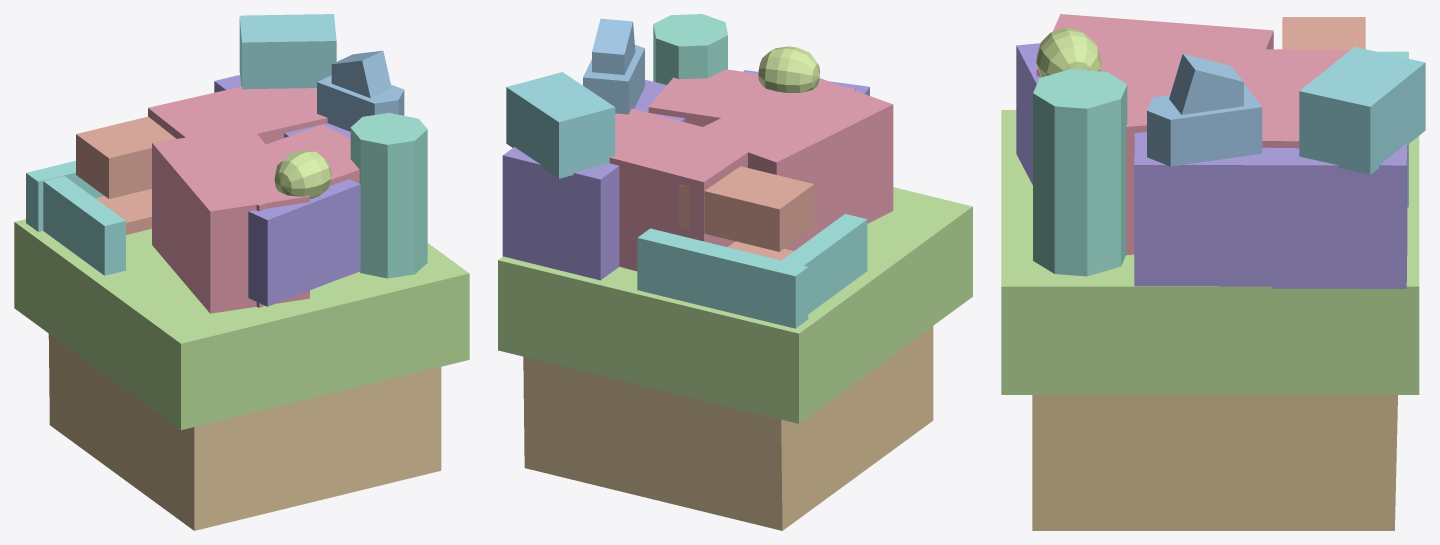
File: repairstation.glb
The picture shows the model from 3 angles, left to right: view 1: azimuth 30°, elevation 25°; view 2: azimuth 150°, elevation 25°; view 3: azimuth 270°, elevation 25°; orthographic projection. The views are drawn at different scales.
Parts seen in each view (by area): view 1: S1|SM_RepairStation_stage1#0, S6|SM_Foundation_Mistral#0, S4|SM_Commercial_Wooden_Crate_01#0, S5|SM_Tool_Drawers_Wheeled_01a#0, S5|SM_TyreStack_Low_01#1, S3|SM_Commercial_Wooden_Crate_01#0, S5|SM_BuildToolsSupply#2, S5|SM_Generator_Portable_02a#0, S3|SM_Commercial_Wooden_Crate_01#1, S5|S_Sandbag_Barrier_udtvadqfa_high_Var1#0, S4|SM_Tool_Drawers_Wheeled_02a#0, S4|SM_TyreStack_Low_01#0 (+6 smaller); view 2: S1|SM_RepairStation_stage1#0, S6|SM_Foundation_Mistral#0, S4|SM_Commercial_Wooden_Crate_01#0, S3|SM_Commercial_Wooden_Crate_01#0, S5|SM_StallDesk_03a#0, S5|SM_BuildToolsSupply#2, S4|SM_Tool_Drawers_Wheeled_02a#0, S3|SM_Commercial_Wooden_Crate_01#1, S5|S_Sandbag_Barrier_udtvadqfa_high_Var1#0, S3|S_Sandbag_Barrier_udtvadqfa_high_Var1#0, S4|S_Sandbag_Barrier_udtvadqfa_high_Var1#0, S2|S_Sandbag_Barrier_udtvadqfa_high_Var1#0 (+5 smaller); view 3: S1|SM_RepairStation_stage1#0, S6|SM_Foundation_Mistral#0, S5|SM_StallDesk_03a#0, S5|SM_TyreStack_Low_01#1, S5|SM_BuildToolsSupply#2, S5|SM_Generator_Portable_02a#0, S4|SM_TyreStack_Low_01#0, S4|SM_Commercial_Wooden_Crate_01#0, S3|SM_Commercial_Wooden_Crate_01#0, S3|SM_Commercial_Wooden_Crate_01#1, S4|SM_StallDesk_03a#0, S5|SM_TyreStack_Low_01#0 (+4 smaller).
Part boxes in pixels (left/top/right/bottom): S1|SM_RepairStation_stage1#0: left=14, top=219, right=469, bottom=430; S6|SM_Foundation_Mistral#0: left=48, top=334, right=441, bottom=530; S4|SM_Commercial_Wooden_Crate_01#0: left=152, top=127, right=309, bottom=313; S5|SM_Tool_Drawers_Wheeled_01a#0: left=248, top=179, right=360, bottom=306; S5|SM_TyreStack_Low_01#1: left=350, top=113, right=427, bottom=244; S3|SM_Commercial_Wooden_Crate_01#0: left=148, top=86, right=327, bottom=146; S5|SM_BuildToolsSupply#2: left=239, top=14, right=336, bottom=89; S5|SM_Generator_Portable_02a#0: left=317, top=50, right=404, bottom=131; S3|SM_Commercial_Wooden_Crate_01#1: left=193, top=124, right=359, bottom=307; S5|S_Sandbag_Barrier_udtvadqfa_high_Var1#0: left=26, top=160, right=125, bottom=273; S4|SM_Tool_Drawers_Wheeled_02a#0: left=76, top=119, right=159, bottom=231; S4|SM_TyreStack_Low_01#0: left=362, top=164, right=427, bottom=278; S1|SM_RepairStation_stage1#0: left=498, top=187, right=972, bottom=423; S6|SM_Foundation_Mistral#0: left=523, top=326, right=933, bottom=530; S4|SM_Commercial_Wooden_Crate_01#0: left=693, top=78, right=893, bottom=250; S3|SM_Commercial_Wooden_Crate_01#0: left=609, top=108, right=761, bottom=271; S5|SM_StallDesk_03a#0: left=502, top=89, right=646, bottom=280; S5|SM_BuildToolsSupply#2: left=506, top=72, right=615, bottom=178; S4|SM_Tool_Drawers_Wheeled_02a#0: left=679, top=166, right=814, bottom=260; S3|SM_Commercial_Wooden_Crate_01#1: left=648, top=69, right=855, bottom=132; S5|S_Sandbag_Barrier_udtvadqfa_high_Var1#0: left=637, top=214, right=867, bottom=326; S3|S_Sandbag_Barrier_udtvadqfa_high_Var1#0: left=637, top=235, right=867, bottom=327; S4|S_Sandbag_Barrier_udtvadqfa_high_Var1#0: left=637, top=221, right=867, bottom=327; S2|S_Sandbag_Barrier_udtvadqfa_high_Var1#0: left=637, top=250, right=866, bottom=328; S1|SM_RepairStation_stage1#0: left=1001, top=110, right=1419, bottom=394; S6|SM_Foundation_Mistral#0: left=1032, top=395, right=1397, bottom=530; S5|SM_StallDesk_03a#0: left=1134, top=132, right=1407, bottom=288; S5|SM_TyreStack_Low_01#1: left=1033, top=69, right=1127, bottom=234; S5|SM_BuildToolsSupply#2: left=1299, top=47, right=1425, bottom=174; S5|SM_Generator_Portable_02a#0: left=1147, top=54, right=1262, bottom=166; S4|SM_TyreStack_Low_01#0: left=1033, top=132, right=1125, bottom=276; S4|SM_Commercial_Wooden_Crate_01#0: left=1036, top=14, right=1273, bottom=79; S3|SM_Commercial_Wooden_Crate_01#0: left=1232, top=48, right=1349, bottom=148; S3|SM_Commercial_Wooden_Crate_01#1: left=1088, top=30, right=1185, bottom=255; S4|SM_StallDesk_03a#0: left=1134, top=132, right=1406, bottom=286; S5|SM_TyreStack_Low_01#0: left=1033, top=214, right=1125, bottom=276.
Size of the model in its own units: 3.19 by 3.77 by 3.12.
